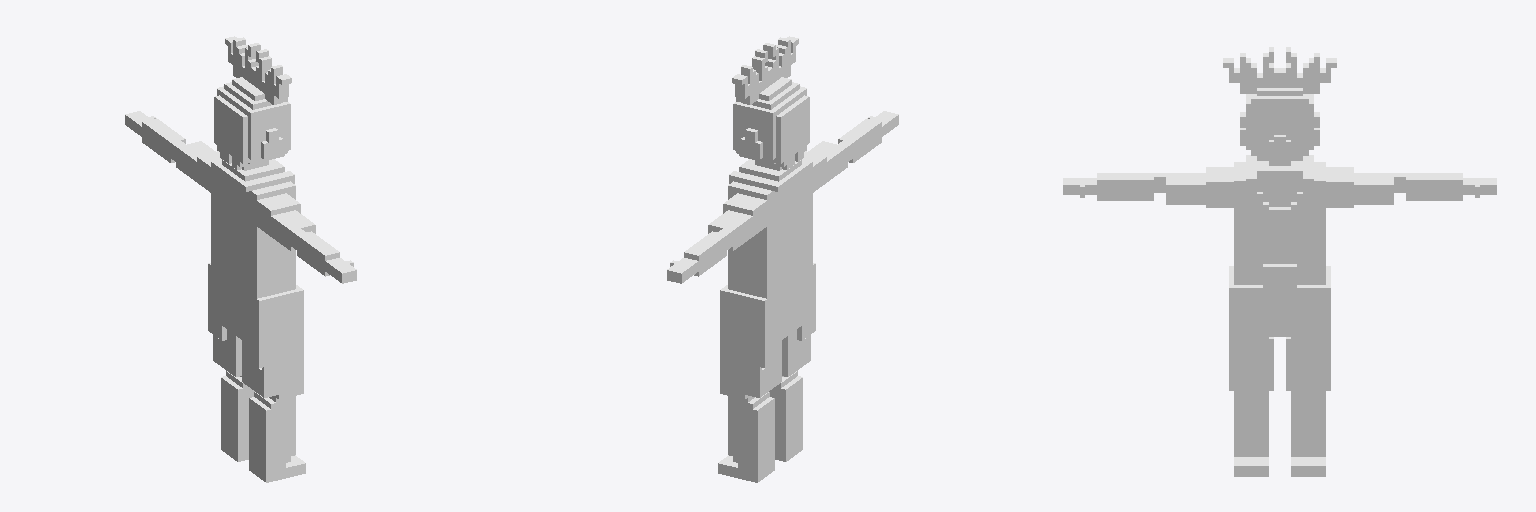
Rendered from mummy1_character.obj.
The picture shows the model from 3 angles: view 1: azimuth 30°, elevation 25°; view 2: azimuth 150°, elevation 25°; view 3: azimuth 270°, elevation 25°; orthographic projection.
Parts seen in each view (by area): view 1: object 1; view 2: object 1; view 3: object 1.
Part boxes in pixels (bbox=[...]): object 1: bbox=[125, 36, 356, 482]; object 1: bbox=[667, 36, 898, 482]; object 1: bbox=[1063, 47, 1496, 476].
Size of the model in its own units: 1.1 by 8 by 7.6.